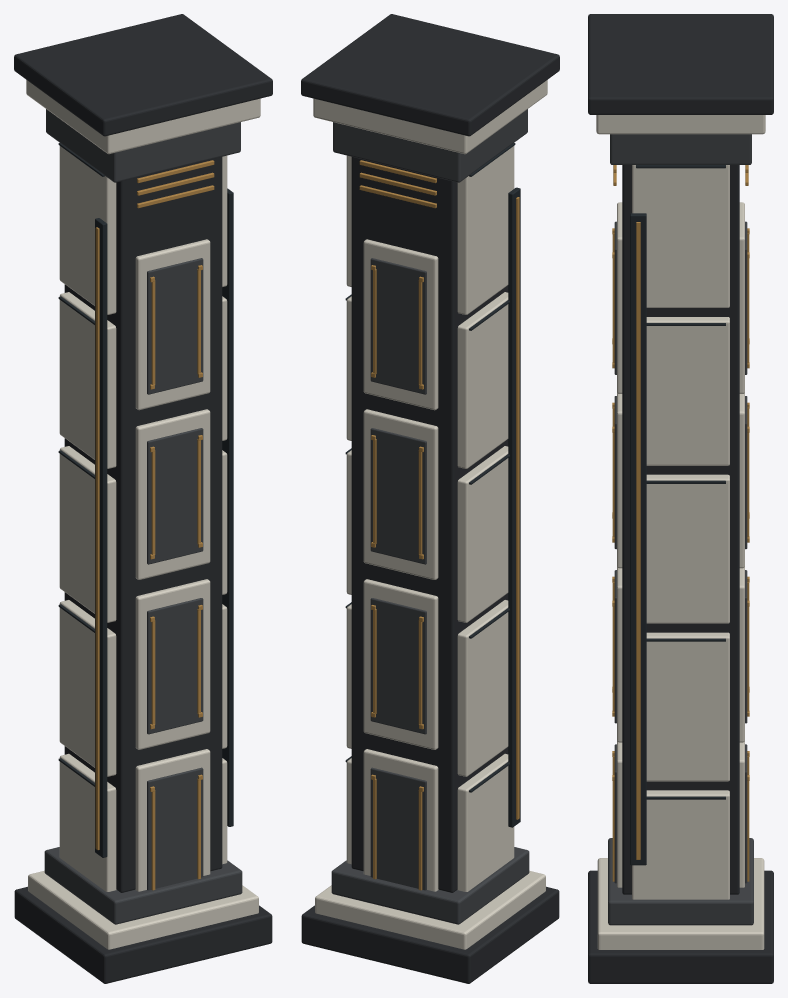
Rendered from SM_Aurelion_KIT_Z12CanopyBearingFoot.fbx.
3 views of the same model, side by side, from view 1: azimuth 30°, elevation 25°; view 2: azimuth 150°, elevation 25°; view 3: azimuth 270°, elevation 25° (orthographic). The views are drawn at different scales.
Visible parts, largest first — view 1: SM_Aurelion_KIT_Z12CanopyBearingFoot; view 2: SM_Aurelion_KIT_Z12CanopyBearingFoot; view 3: SM_Aurelion_KIT_Z12CanopyBearingFoot.
Boxes of the visible parts, x1,y1,x2,y2 form: SM_Aurelion_KIT_Z12CanopyBearingFoot: (14, 14, 272, 983); SM_Aurelion_KIT_Z12CanopyBearingFoot: (301, 14, 559, 983); SM_Aurelion_KIT_Z12CanopyBearingFoot: (588, 14, 773, 983).
Size of the model in its own units: 156 by 144 by 759.
